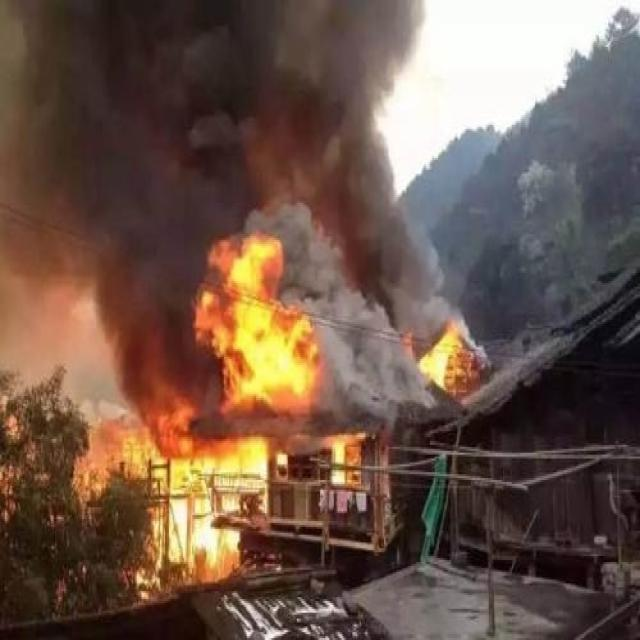Fire: (121, 437, 268, 601), (192, 235, 322, 410), (418, 322, 464, 390), (330, 441, 346, 484)
Smoke: (1, 2, 492, 457)
